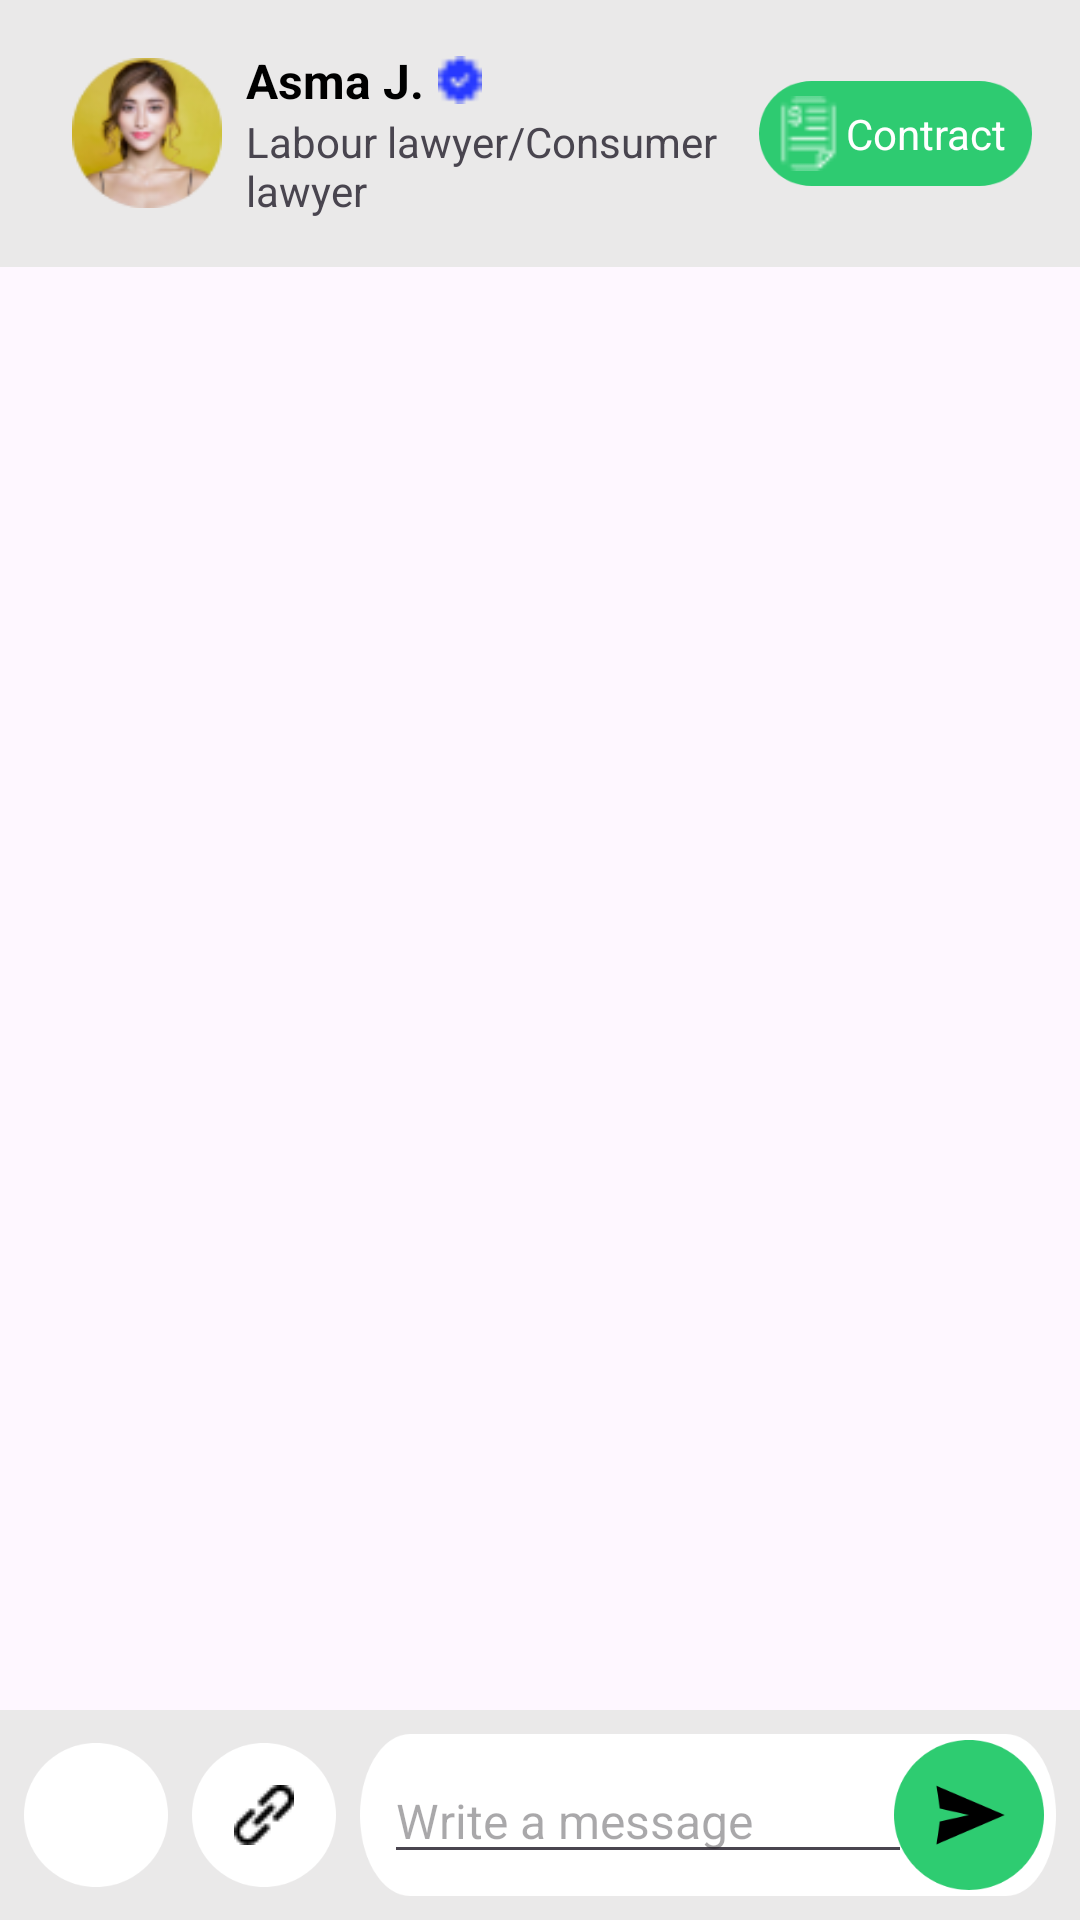

Icons on this 1080x1920 Android screen, each with its box as box(x1, y1, x2, y2):
Attach: box(192, 1743, 336, 1887)
invoice: box(780, 96, 837, 171)
Profile: box(72, 58, 222, 208)
Send Icon: box(894, 1740, 1044, 1890)
Verified: box(438, 56, 482, 104)
